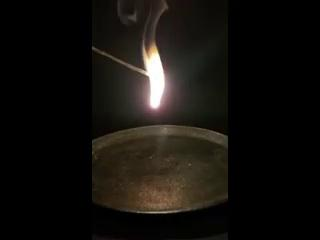Fire: (142, 34, 168, 109)
